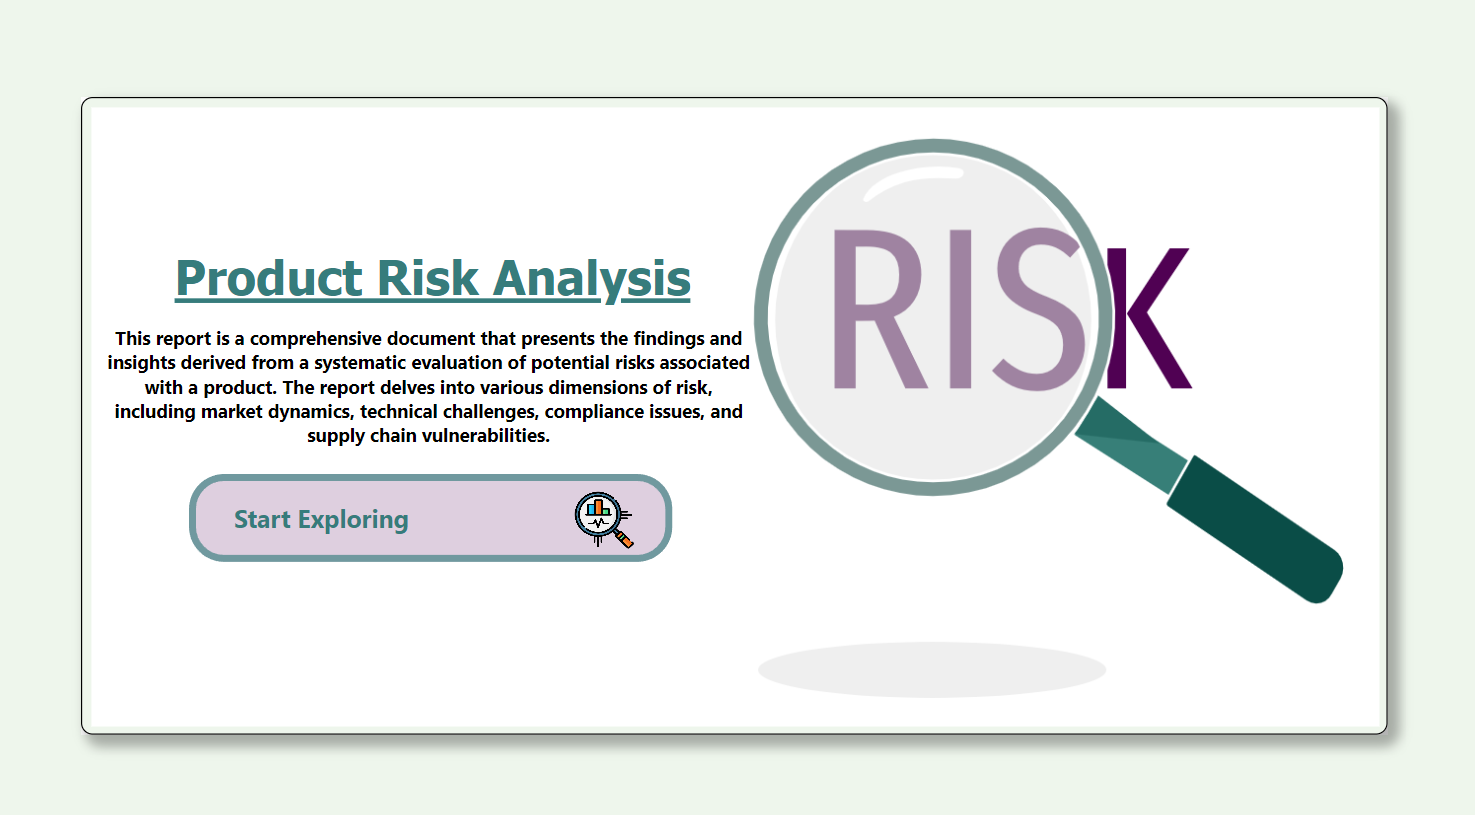

What the dashboard file says about the page in this screenshot:
{"tool":"powerbi","page":{"name":"Home","canvas":[1280,720],"ordinal":0},"visuals":[{"type":"group","id":"g1","title":"Group 4","box":[74.6,91.7,1127.1,550.1],"z":0},{"type":"group","id":"g2","title":"Group 2","box":[74.6,91.7,1127.1,550.1],"z":0,"group":"g1"},{"type":"image","box":[74.6,91.7,1127.1,550.1],"z":0,"group":"g2"},{"type":"actionButton","box":[63.4,193.8,627.1,103.9],"z":0,"group":"g3"},{"type":"actionButton","box":[167.5,416.8,416.8,75.8],"z":0,"group":"g4"},{"type":"group","id":"g3","title":"Group 1","box":[63.4,193.8,627.1,243.3],"z":1000},{"type":"actionButton","box":[91.5,242.7,563.5,194.4],"z":1000,"group":"g3"},{"type":"image","box":[494.9,427.6,61.1,58.7],"z":1000,"group":"g4"},{"type":"group","id":"g4","title":"Group 3","box":[167.5,416.8,416.8,75.8],"z":2000}]}

Visuals, with their boxes in screenshot pixels (x1, y1, x2, y2), scaled from the page's 1280x720 canvas onto the 1475x815 screenshot:
"Group 4" group: rect(86, 104, 1385, 726)
"Group 2" group: rect(86, 104, 1385, 726)
image: rect(86, 104, 1385, 726)
actionButton: rect(73, 219, 796, 337)
actionButton: rect(193, 472, 673, 558)
"Group 1" group: rect(73, 219, 796, 495)
actionButton: rect(105, 275, 755, 495)
image: rect(570, 484, 641, 550)
"Group 3" group: rect(193, 472, 673, 558)
